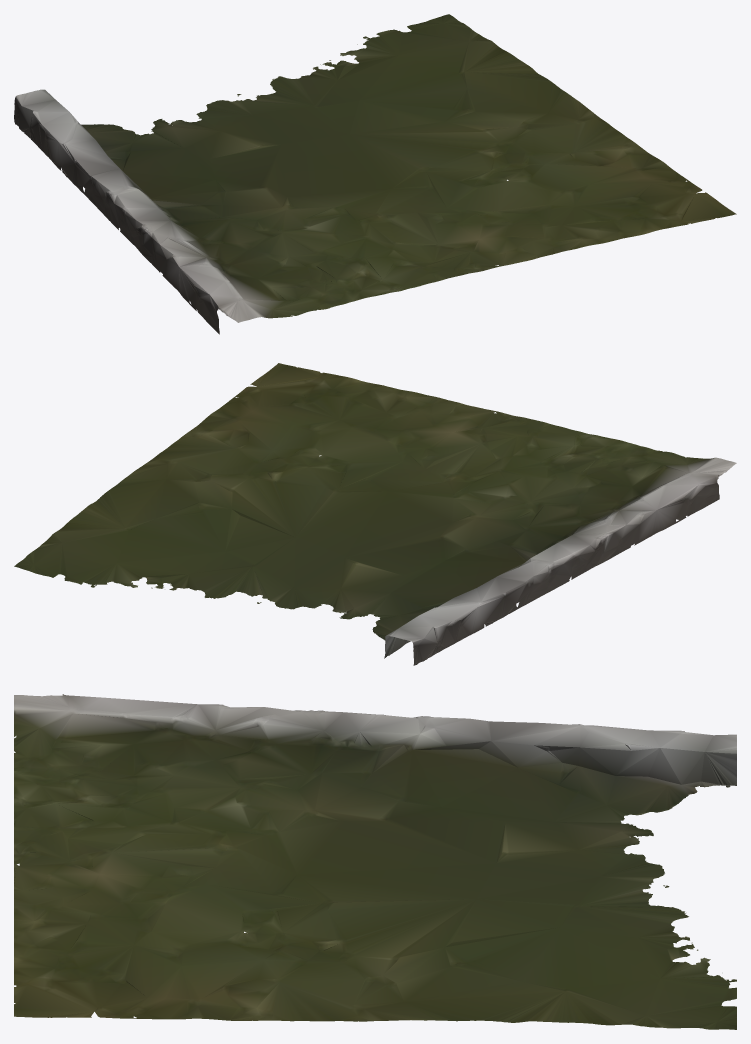
File: coarse.glb
3 renders of one model, top to bottom at view 1: azimuth 30°, elevation 25°; view 2: azimuth 150°, elevation 25°; view 3: azimuth 270°, elevation 25°, orthographic. The views are drawn at different scales.
Bounding box in the file's own units: 3.6 × 0.1894 × 3.6.
